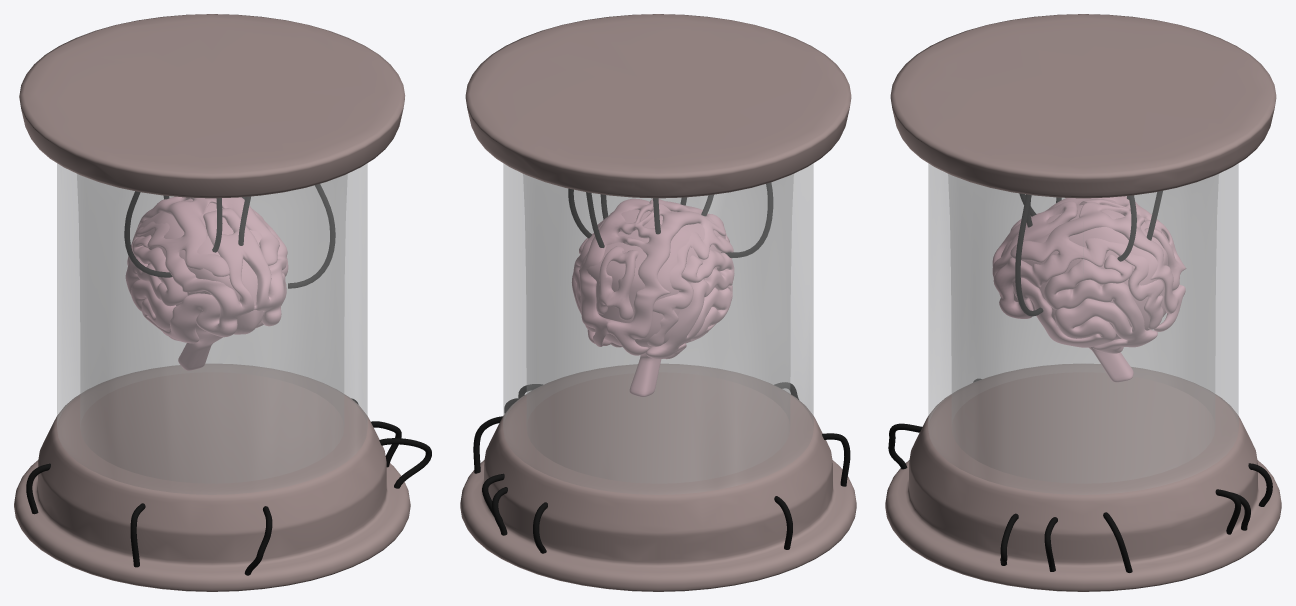
Rendered from brain_in_a_jar.glb.
3 renders of one model, left to right at view 1: azimuth 30°, elevation 25°; view 2: azimuth 150°, elevation 25°; view 3: azimuth 270°, elevation 25°, orthographic.
Parts seen in each view (by area): view 1: Circle_Material.003_0, Cylinder_Material.001_0, cerveau_Material_0, BezierCurve_Material.002_0; view 2: Circle_Material.003_0, Cylinder_Material.001_0, cerveau_Material_0, BezierCurve_Material.002_0; view 3: Circle_Material.003_0, Cylinder_Material.001_0, cerveau_Material_0, BezierCurve_Material.002_0.
Boxes of the visible parts, box(x1,y1,x2,y2) form: Circle_Material.003_0: box(14, 14, 410, 591); Cylinder_Material.001_0: box(57, 163, 367, 494); cerveau_Material_0: box(125, 196, 288, 370); BezierCurve_Material.002_0: box(26, 184, 431, 575); Circle_Material.003_0: box(460, 14, 856, 591); Cylinder_Material.001_0: box(503, 163, 813, 494); cerveau_Material_0: box(572, 198, 734, 396); BezierCurve_Material.002_0: box(473, 182, 850, 553); Circle_Material.003_0: box(885, 14, 1281, 591); Cylinder_Material.001_0: box(928, 163, 1238, 494); cerveau_Material_0: box(992, 196, 1186, 382); BezierCurve_Material.002_0: box(888, 191, 1272, 572).
Size of the model in its own units: 10.27 by 11.71 by 10.05.
